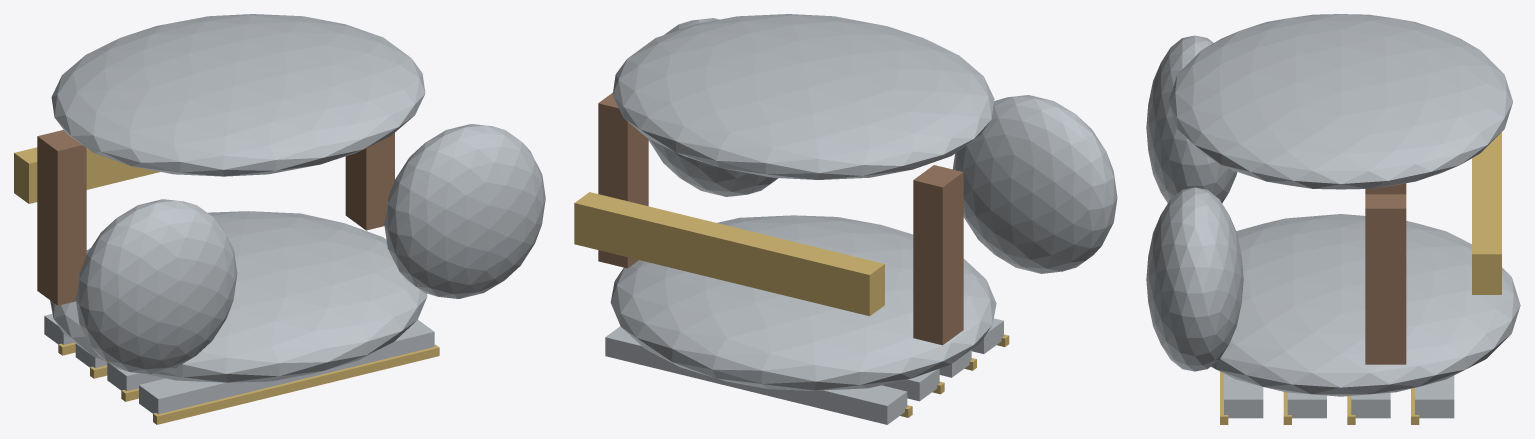
Rendered from captain_armour_segmented_steel.glb.
The picture shows the model from 3 angles, left to right: view 1: azimuth 30°, elevation 25°; view 2: azimuth 150°, elevation 25°; view 3: azimuth 270°, elevation 25°; orthographic projection. The views are drawn at different scales.
Parts seen in each view (by area): view 1: cuirass_back, shoulder_guard (×2), cuirass_front, side_strap (×2), front_segment_3, front_trim_3, lower_armour_rim, front_segment_2; view 2: cuirass_back, cuirass_front, shoulder_guard (×2), lower_armour_rim, side_strap (×2), front_segment_0, front_segment_1, front_segment_3; view 3: cuirass_back, cuirass_front, shoulder_guard (×2), side_strap (×2), lower_armour_rim, front_segment_3, front_segment_0, front_segment_2, front_segment_1.
Boxes of the visible parts, x1=… form: cuirass_back: x1=51, y1=14, x2=425, y2=176; shoulder_guard (×2): x1=76, y1=124, x2=545, y2=374; cuirass_front: x1=50, y1=211, x2=427, y2=382; side_strap (×2): x1=37, y1=130, x2=394, y2=305; front_segment_3: x1=139, y1=320, x2=434, y2=414; front_trim_3: x1=153, y1=344, x2=439, y2=424; lower_armour_rim: x1=14, y1=147, x2=159, y2=203; front_segment_2: x1=107, y1=362, x2=164, y2=390; cuirass_back: x1=612, y1=14, x2=994, y2=179; cuirass_front: x1=610, y1=215, x2=996, y2=390; shoulder_guard (×2): x1=648, y1=18, x2=1117, y2=273; lower_armour_rim: x1=574, y1=192, x2=884, y2=316; side_strap (×2): x1=598, y1=92, x2=963, y2=345; front_segment_0: x1=605, y1=326, x2=907, y2=424; front_segment_1: x1=882, y1=368, x2=939, y2=401; front_segment_3: x1=971, y1=318, x2=1003, y2=353; cuirass_back: x1=1169, y1=14, x2=1512, y2=189; cuirass_front: x1=1211, y1=214, x2=1520, y2=396; shoulder_guard (×2): x1=1146, y1=35, x2=1243, y2=371; side_strap (×2): x1=1365, y1=183, x2=1406, y2=364; lower_armour_rim: x1=1472, y1=132, x2=1501, y2=294; front_segment_3: x1=1224, y1=373, x2=1263, y2=418; front_segment_0: x1=1415, y1=375, x2=1454, y2=418; front_segment_2: x1=1287, y1=392, x2=1326, y2=418; front_segment_1: x1=1351, y1=392, x2=1390, y2=418.
Bounding box in the file's own units: 1.44 × 0.925 × 1.
